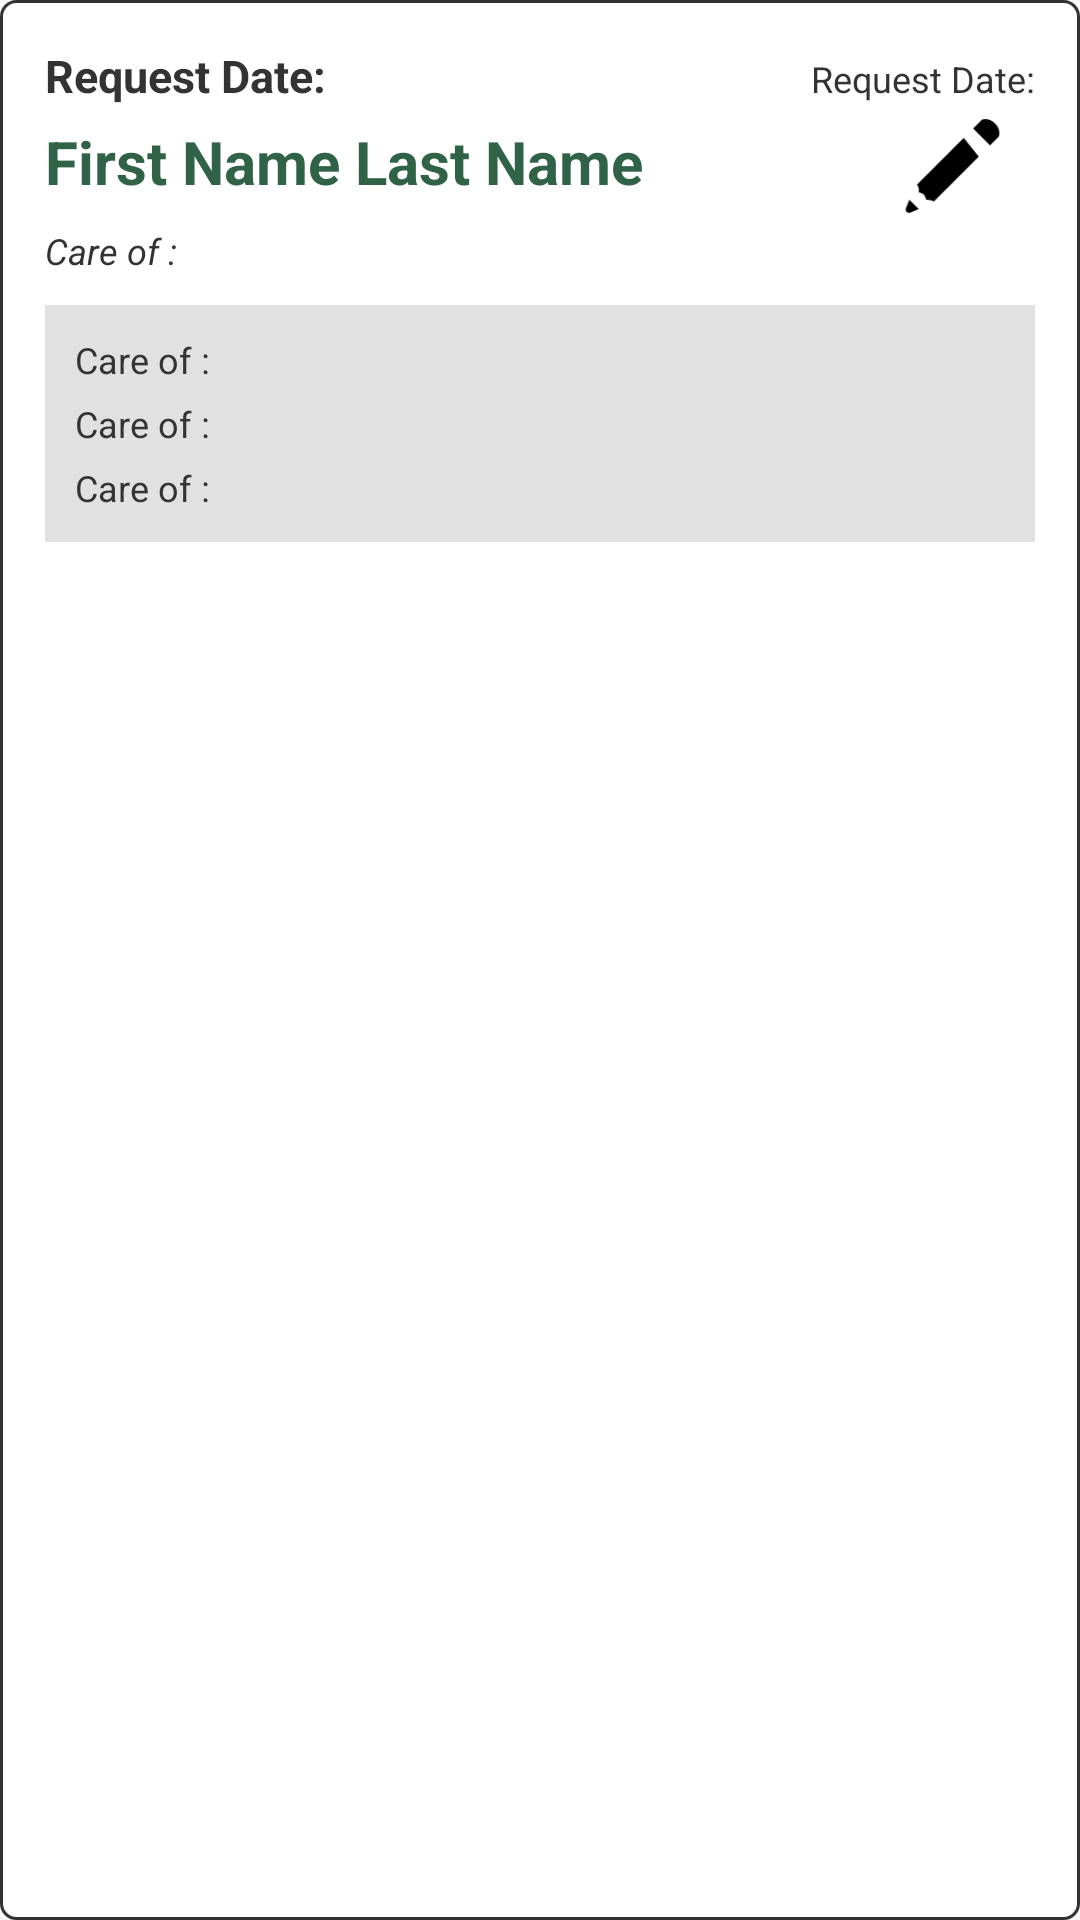

Named icons in this screenshot (1080 x 1920) and their centers, [x,y]:
edit: [952,166]
